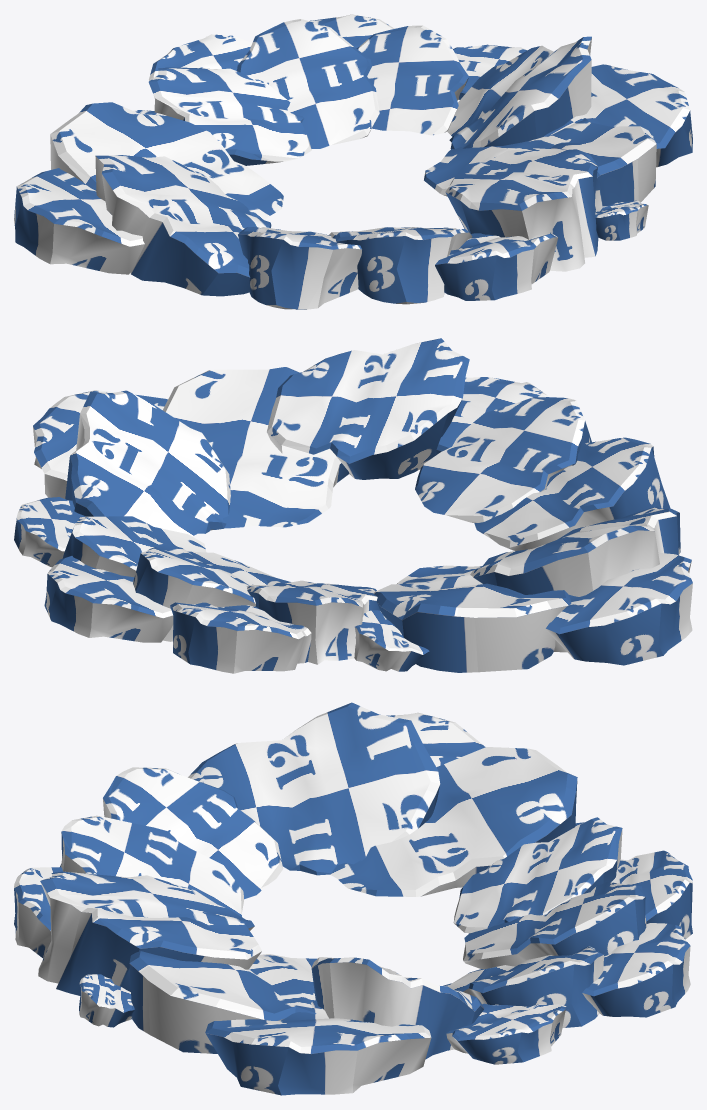
The model's file is RuiDad_Rock2.fbx.
The picture shows the model from 3 angles, top to bottom: view 1: azimuth 30°, elevation 25°; view 2: azimuth 150°, elevation 25°; view 3: azimuth 270°, elevation 25°; orthographic projection. The views are drawn at different scales.
Visible parts, largest first — view 1: SM_e_Plc_P1009_Rock001; view 2: SM_e_Plc_P1009_Rock001; view 3: SM_e_Plc_P1009_Rock001.
Part boxes in pixels (x1,y1,x2,y2): SM_e_Plc_P1009_Rock001: [14, 14, 692, 309]; SM_e_Plc_P1009_Rock001: [14, 338, 692, 673]; SM_e_Plc_P1009_Rock001: [14, 702, 692, 1095].
Bounding box in the file's own units: 159 × 22.47 × 135.
